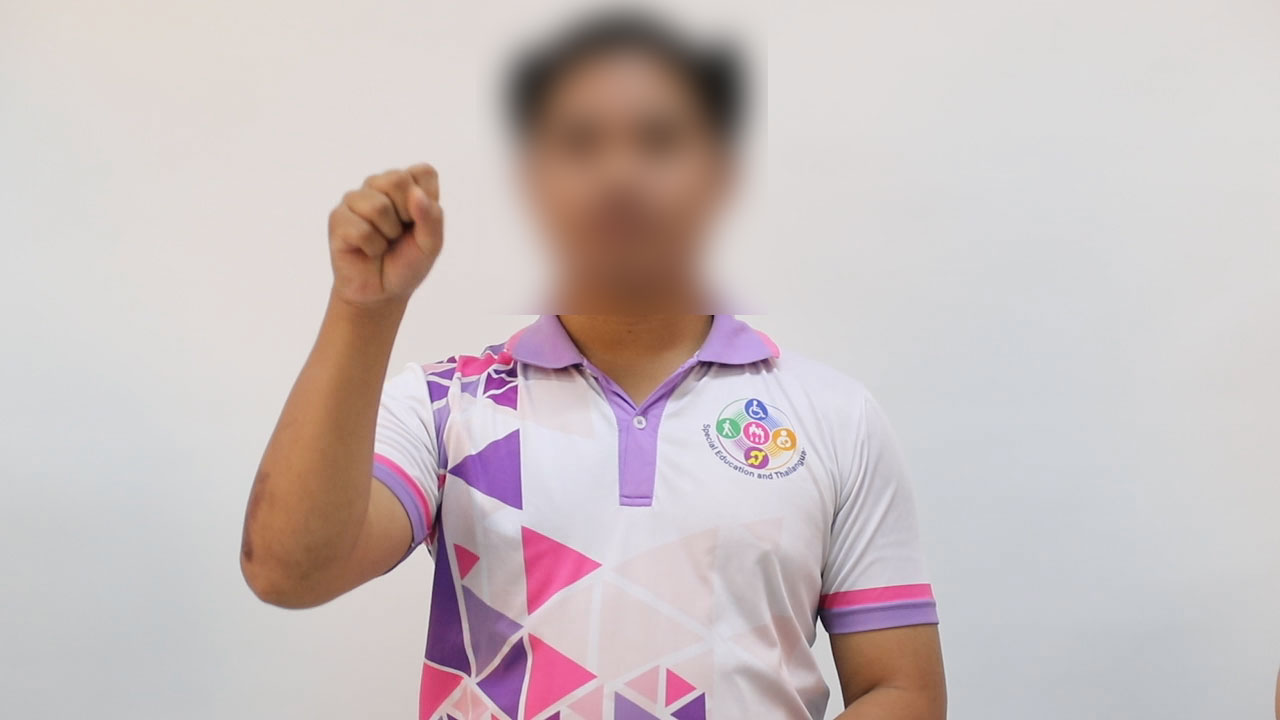sor: (311, 145, 457, 316)
